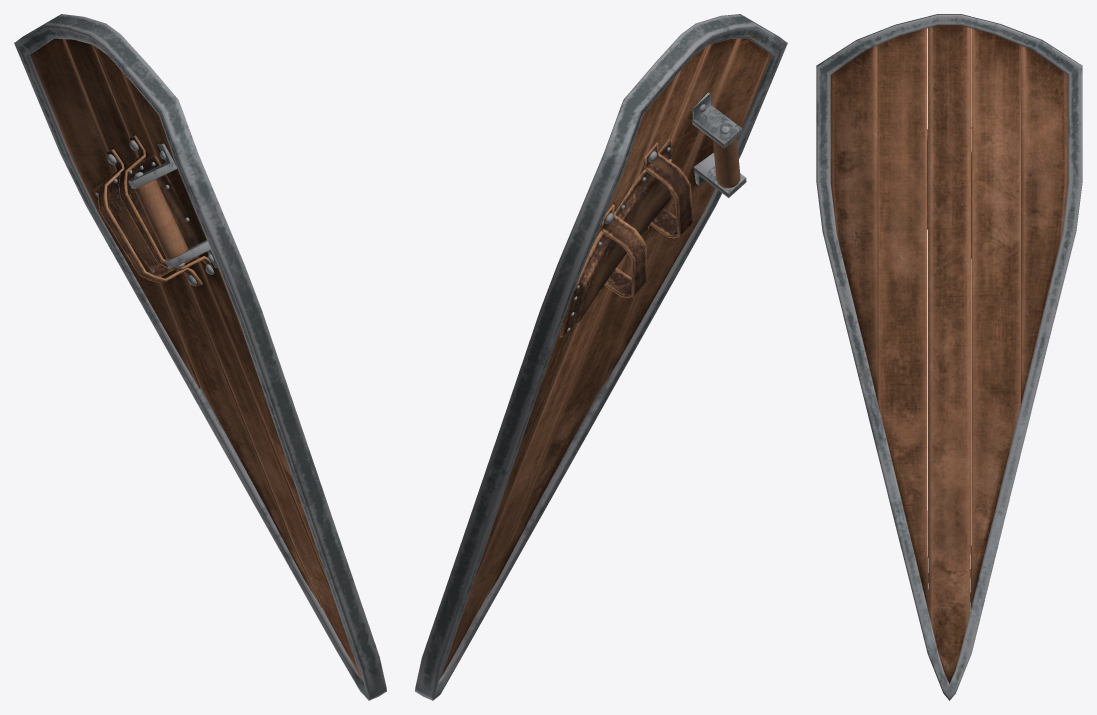
Rendered from shield.glb.
3 renders of one model, left to right at view 1: azimuth 30°, elevation 25°; view 2: azimuth 150°, elevation 25°; view 3: azimuth 270°, elevation 25°, orthographic. The views are drawn at different scales.
Parts seen in each view (by area): view 1: Cube.001 (×3); view 2: Cube.001 (×3); view 3: Cube.001 (×2).
Part boxes in pixels (x1=…): Cube.001 (×3): x1=14, y1=14, x2=386, y2=700; Cube.001 (×3): x1=415, y1=14, x2=787, y2=700; Cube.001 (×2): x1=816, y1=14, x2=1082, y2=700.
Bounding box in the file's own units: 0.7756 × 1.87 × 0.7752.
3 materials, 3 textured.
